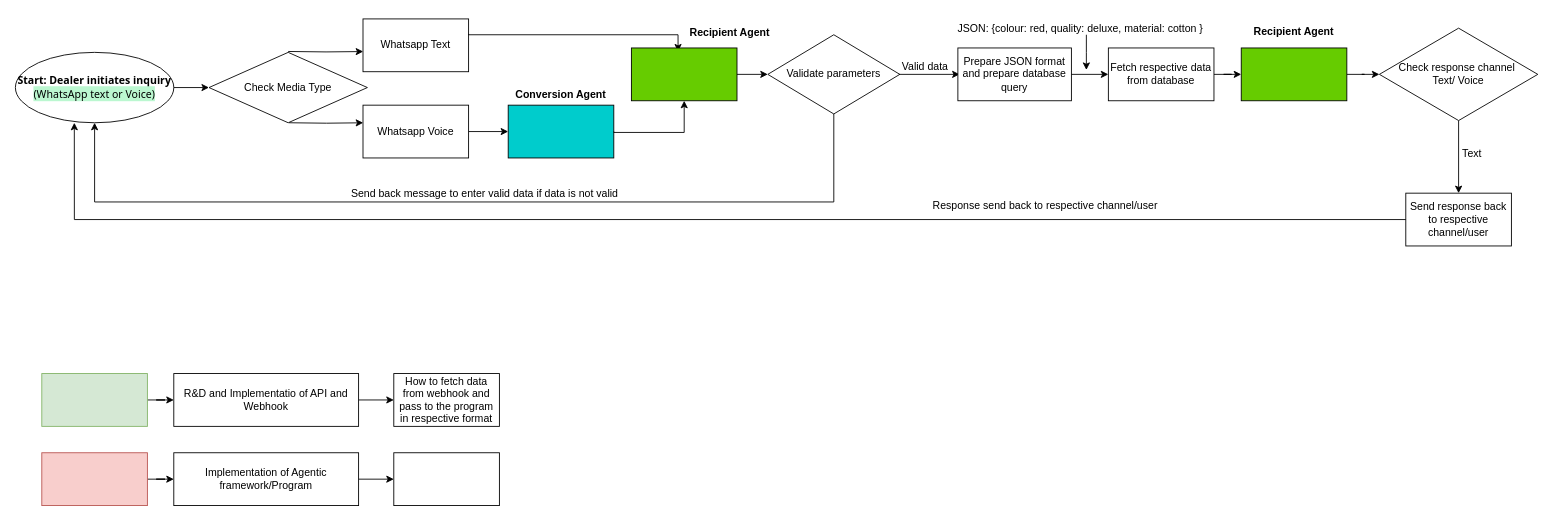
Some shapes in this 1553 by 521 pixel diagram are drawn without their labels. The shapes that lost their labels are listed below. From the top down, each one's centre as x and y in pixels, then its label:
pixel 684 74: Translate to english and extract color, material and quality from query string
pixel 1293 74: Format JSON output to human readable format
pixel 560 131: Convert speech to text
pixel 94 399: Vishal
pixel 94 479: Paras
pixel 446 479: Get formatted string and process data
